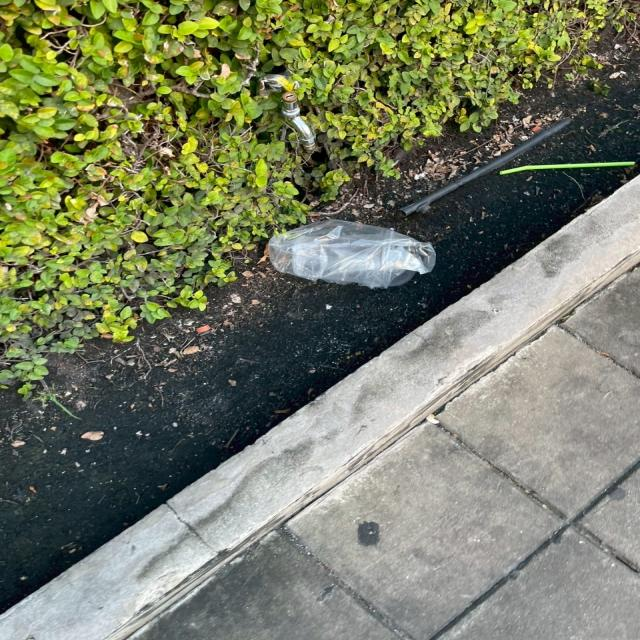plastic bag: (269, 221, 439, 287)
